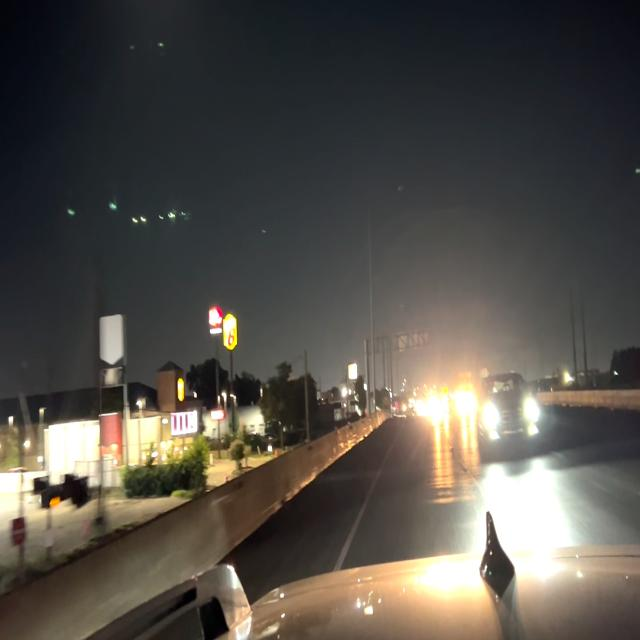back-of-sign: (396, 327, 432, 358)
